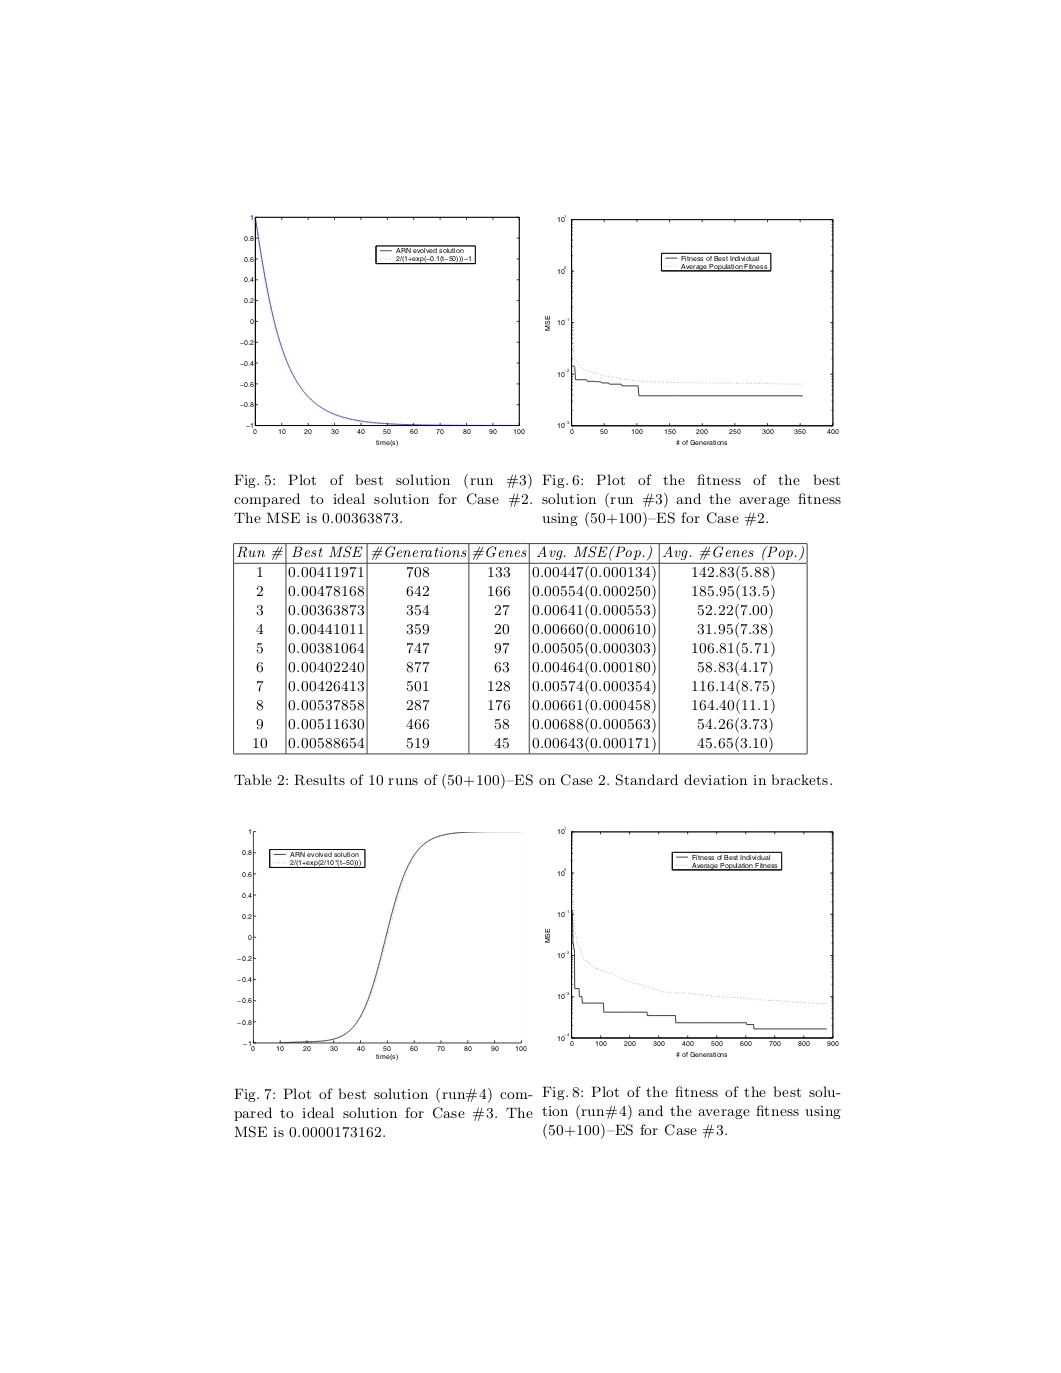Table: (233, 542, 807, 754)
figure: (544, 827, 838, 1056), (544, 215, 838, 445), (237, 828, 526, 1061), (240, 215, 524, 446)
